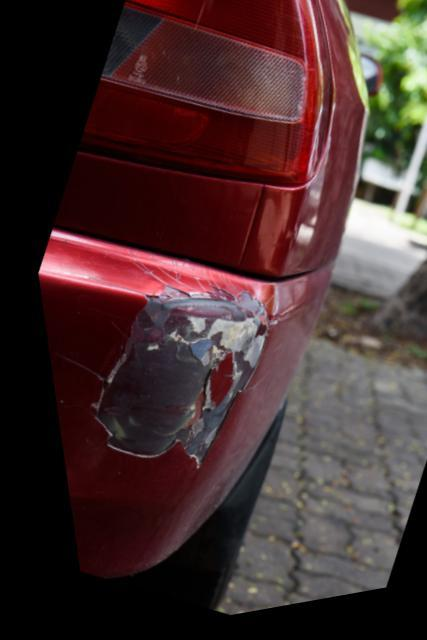scratch: (70, 281, 264, 482)
